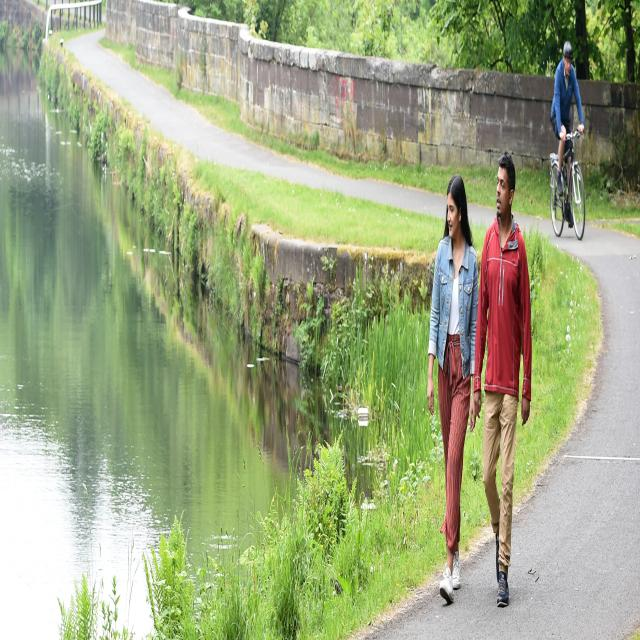Person: (475, 152, 531, 606), (427, 172, 478, 604), (552, 44, 583, 228)
